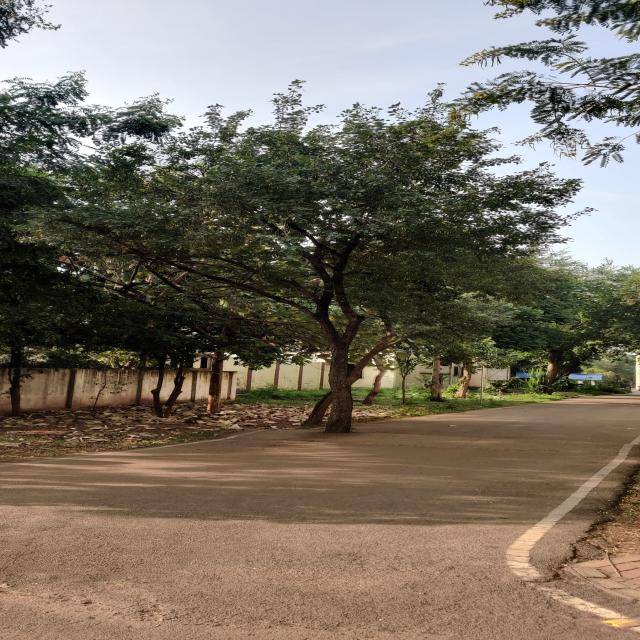Devakanchan tree: (111, 130, 529, 313)
